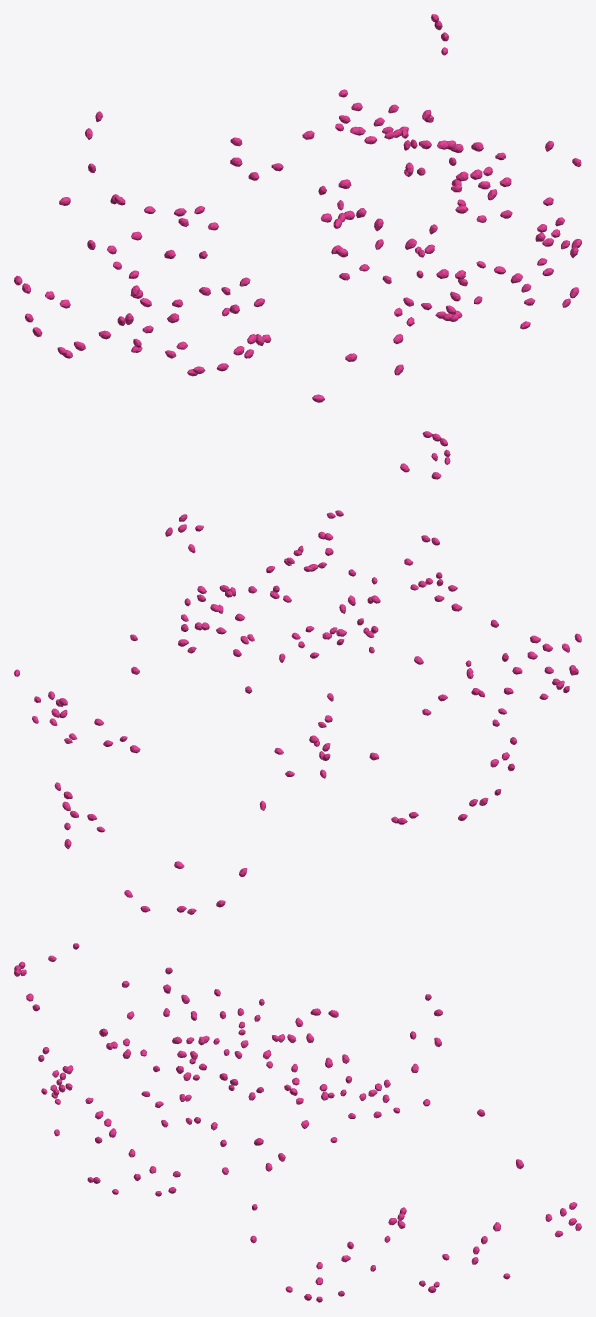
Rendered from mangoesonlyPink.gltf.
The picture shows the model from 3 angles, top to bottom: view 1: azimuth 30°, elevation 25°; view 2: azimuth 150°, elevation 25°; view 3: azimuth 270°, elevation 25°; orthographic projection. The views are drawn at different scales.
Parts seen in each view (by area): view 1: MangoScaled.005; view 2: MangoScaled.005; view 3: MangoScaled.005.
Part boxes in pixels (x1,y1,x2,y2): MangoScaled.005: (14,14,581,402); MangoScaled.005: (14,431,581,914); MangoScaled.005: (14,943,581,1302).
Bounding box in the file's own units: 45.04 × 27.22 × 47.36.
